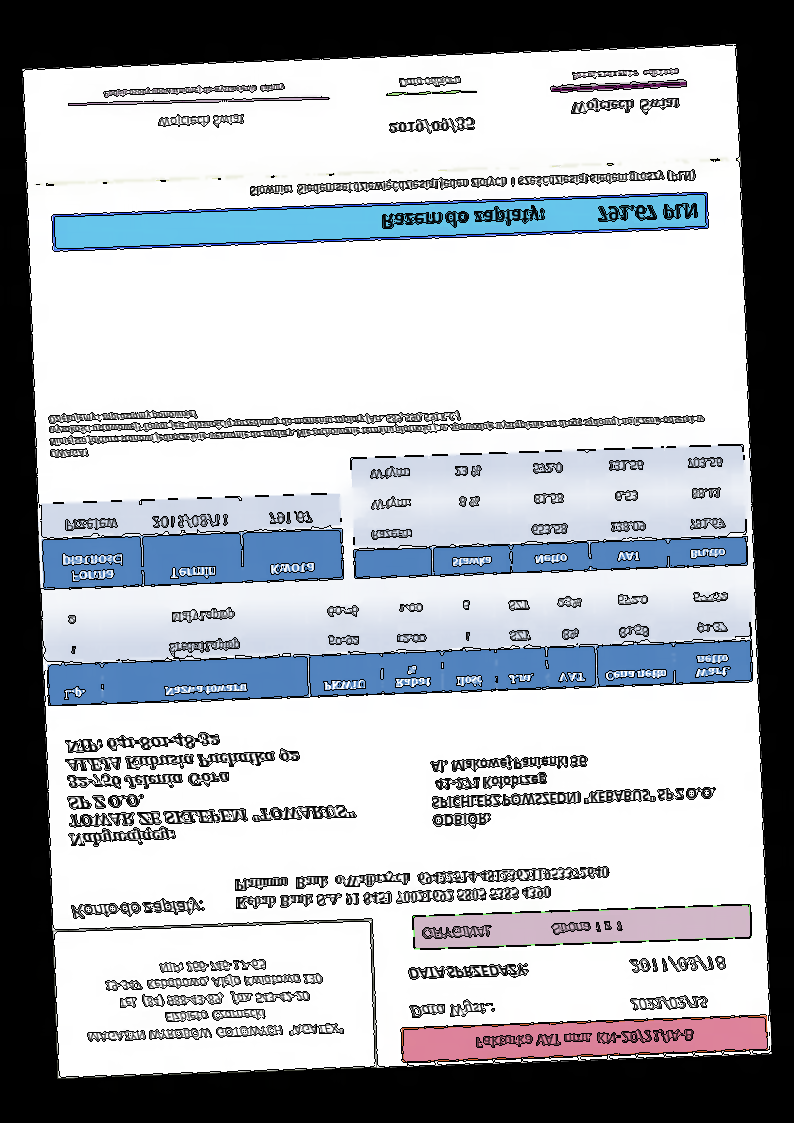Table: (43, 577, 753, 710), (347, 442, 749, 579), (39, 490, 345, 591)
TextBox: (46, 390, 707, 462), (63, 724, 357, 849), (427, 748, 723, 831), (81, 954, 349, 1045), (231, 861, 611, 914), (244, 167, 698, 202), (376, 198, 700, 236), (470, 1026, 698, 1053), (420, 917, 629, 944), (66, 897, 207, 923), (100, 81, 289, 100), (405, 958, 529, 985), (564, 94, 684, 119), (627, 953, 728, 978), (384, 115, 478, 138), (629, 991, 709, 1018), (406, 999, 499, 1022), (153, 111, 246, 134), (568, 66, 681, 83), (396, 73, 463, 93)
